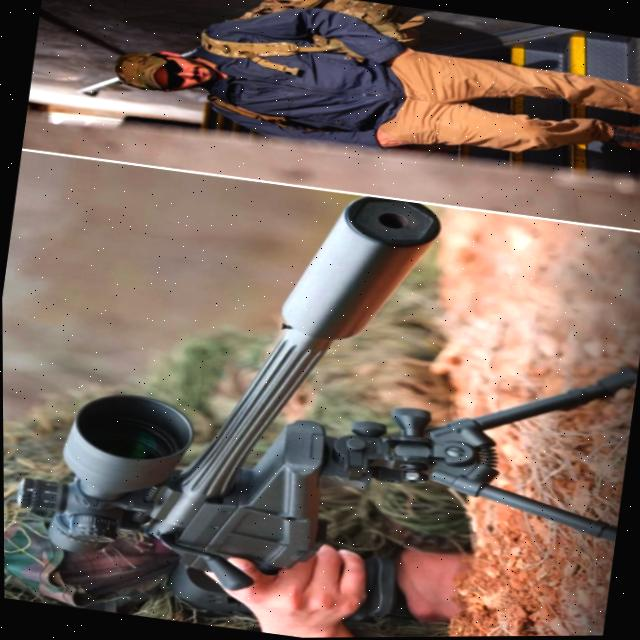firearm: (3, 152, 640, 640)
